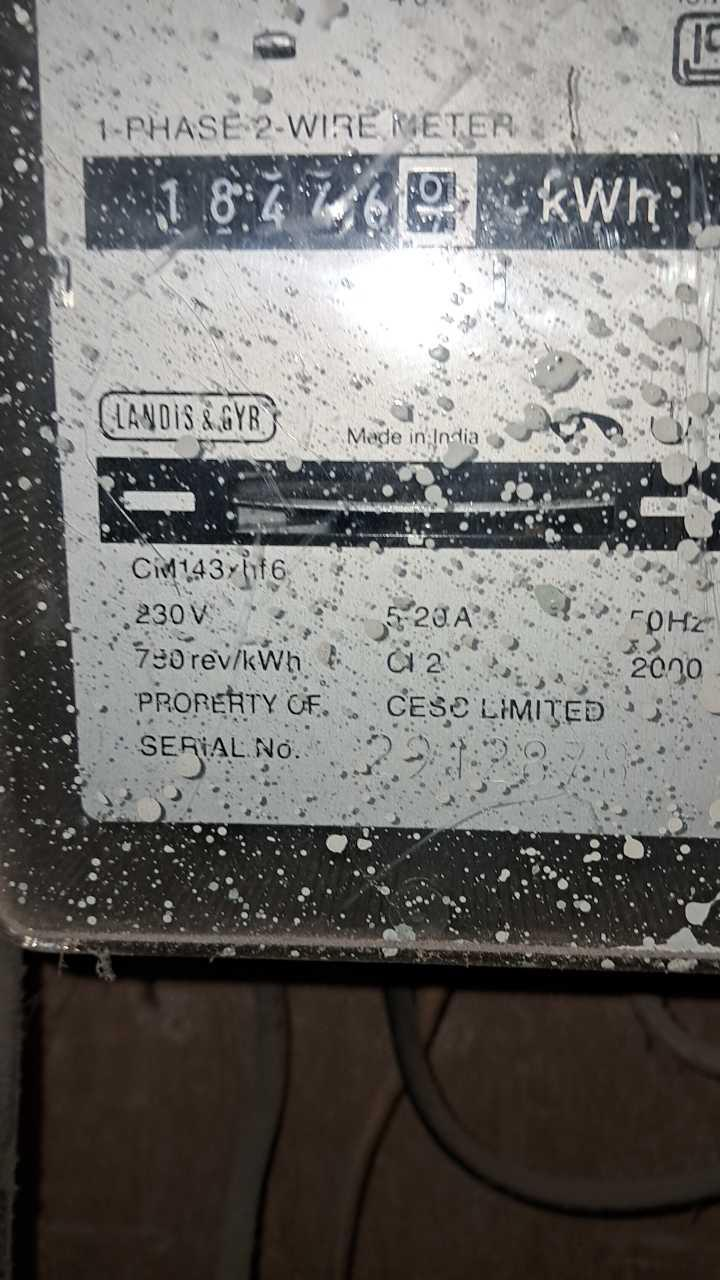meter_readings: (136, 165, 470, 245)
serial_number: (357, 728, 646, 796)
